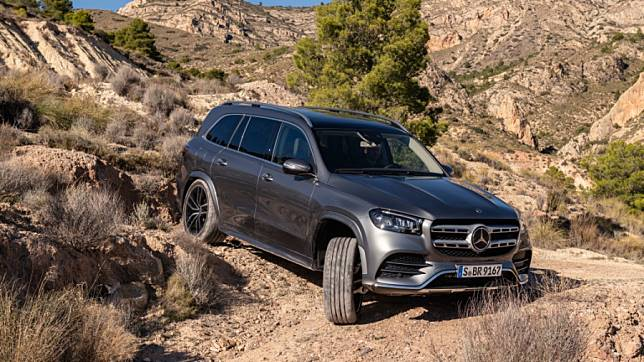pickup: (174, 97, 533, 324)
